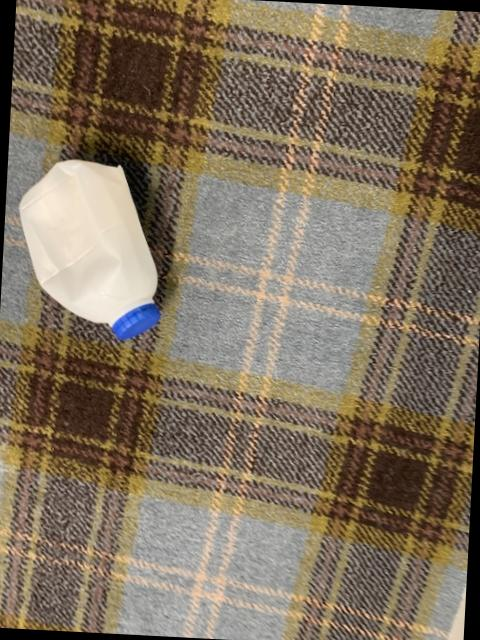plastic: (18, 159, 159, 338)
